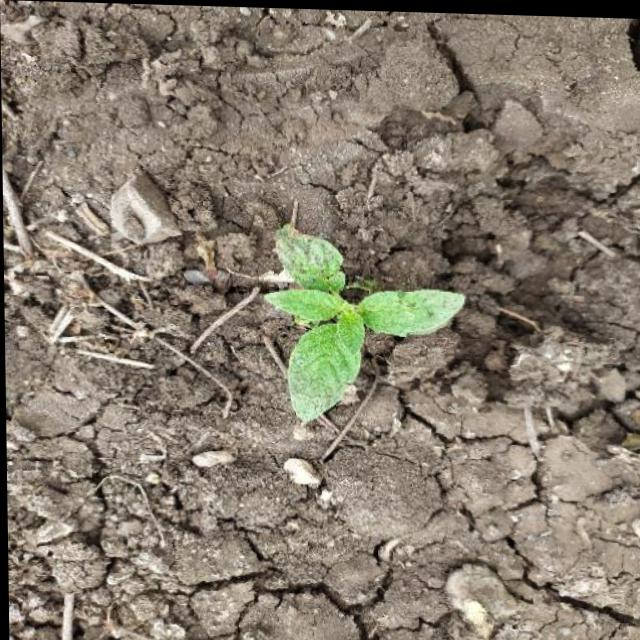crop: (238, 232, 464, 449)
